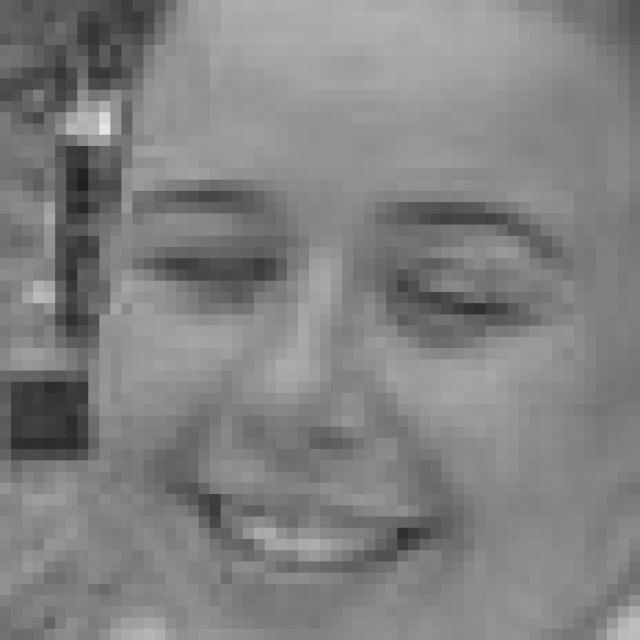real: (77, 0, 640, 640), (120, 218, 539, 345)
